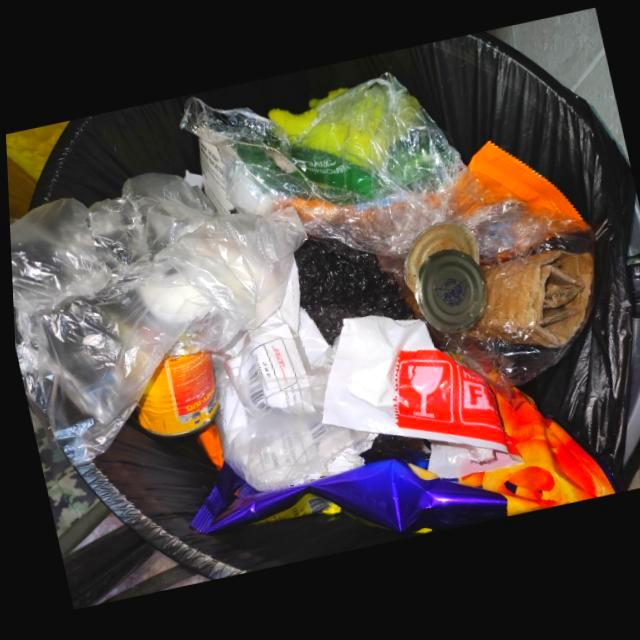aluminum: (126, 351, 214, 438), (411, 250, 484, 335), (401, 224, 476, 306)
food_wrapper: (185, 391, 612, 538), (465, 144, 580, 223)
plastic_bag: (186, 73, 591, 388)
